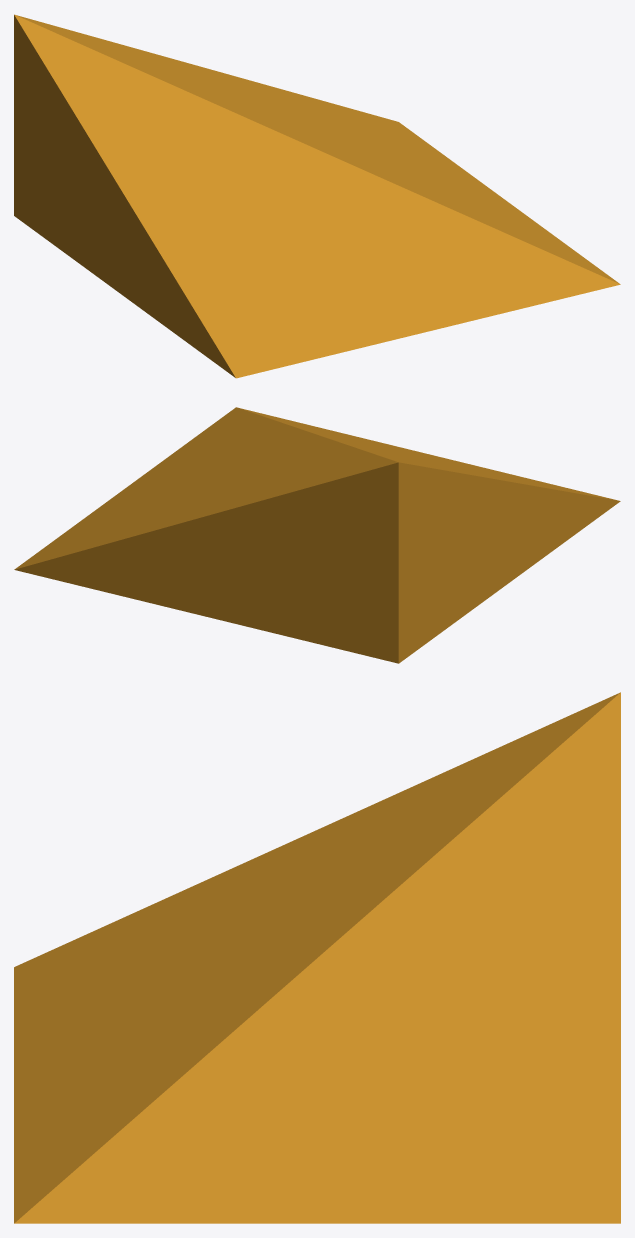
Rendered from Roof-Mid-4x4x2-Corner-Convex.FBX.
The picture shows the model from 3 angles, top to bottom: view 1: azimuth 30°, elevation 25°; view 2: azimuth 150°, elevation 25°; view 3: azimuth 270°, elevation 25°; orthographic projection. The views are drawn at different scales.
Parts seen in each view (by area): view 1: Roof-Mid-4x4x2-Corner-Convex; view 2: Roof-Mid-4x4x2-Corner-Convex; view 3: Roof-Mid-4x4x2-Corner-Convex.
Part boxes in pixels (bbox=[...]): Roof-Mid-4x4x2-Corner-Convex: bbox=[14, 14, 620, 378]; Roof-Mid-4x4x2-Corner-Convex: bbox=[14, 407, 620, 663]; Roof-Mid-4x4x2-Corner-Convex: bbox=[14, 692, 620, 1223].
Bounding box in the file's own units: 40 × 40 × 20.
